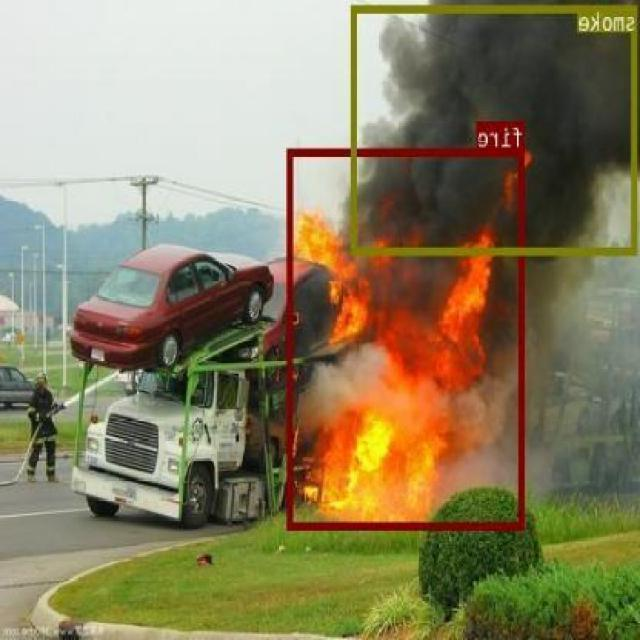Fire: (275, 145, 545, 532)
Smoke: (283, 0, 640, 442)
